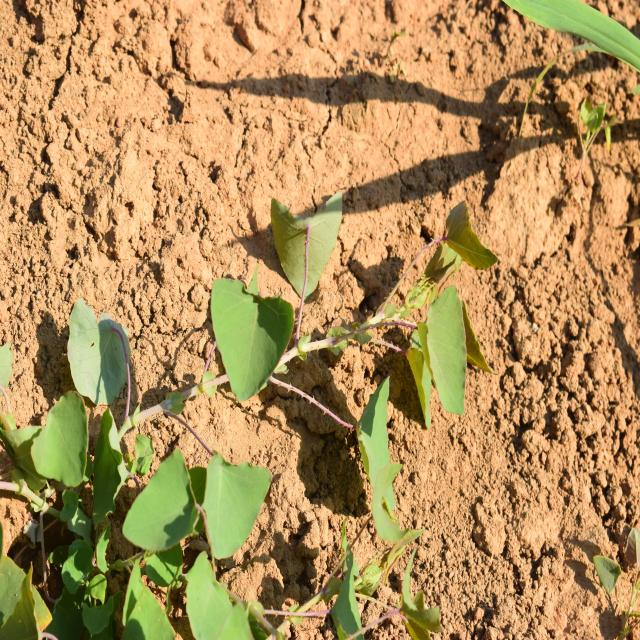Asiatic_Smartweed: (232, 198, 386, 522), (374, 180, 506, 424), (36, 294, 138, 503), (147, 442, 284, 580)
